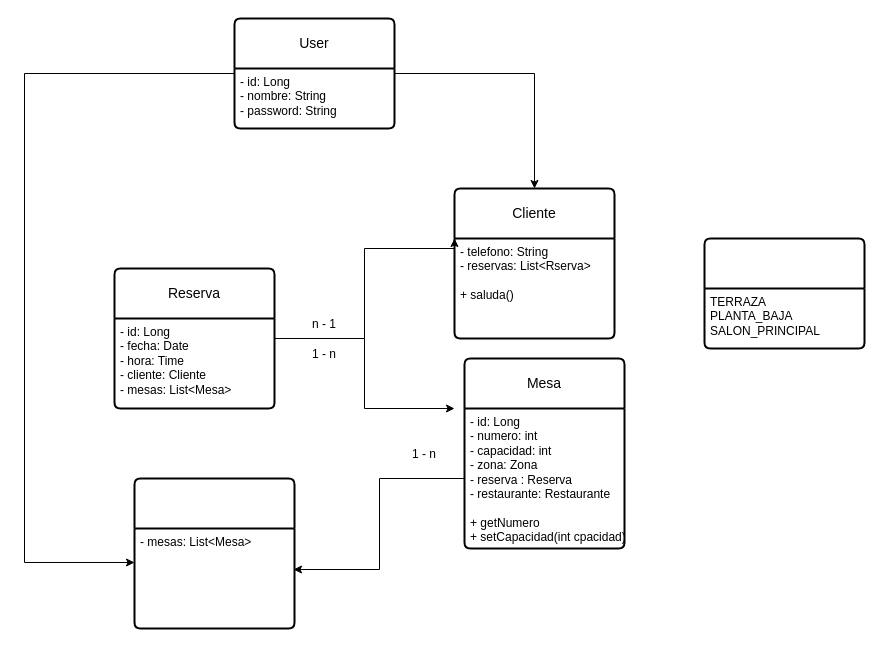
Some shapes in this 883 by 654 pixel diagram are drawn without their labels. Here are the shapes that lost their labels. From the top down, the box of each, then its label:
(703, 237, 865, 349): Zona
(133, 477, 295, 629): Restaurante
